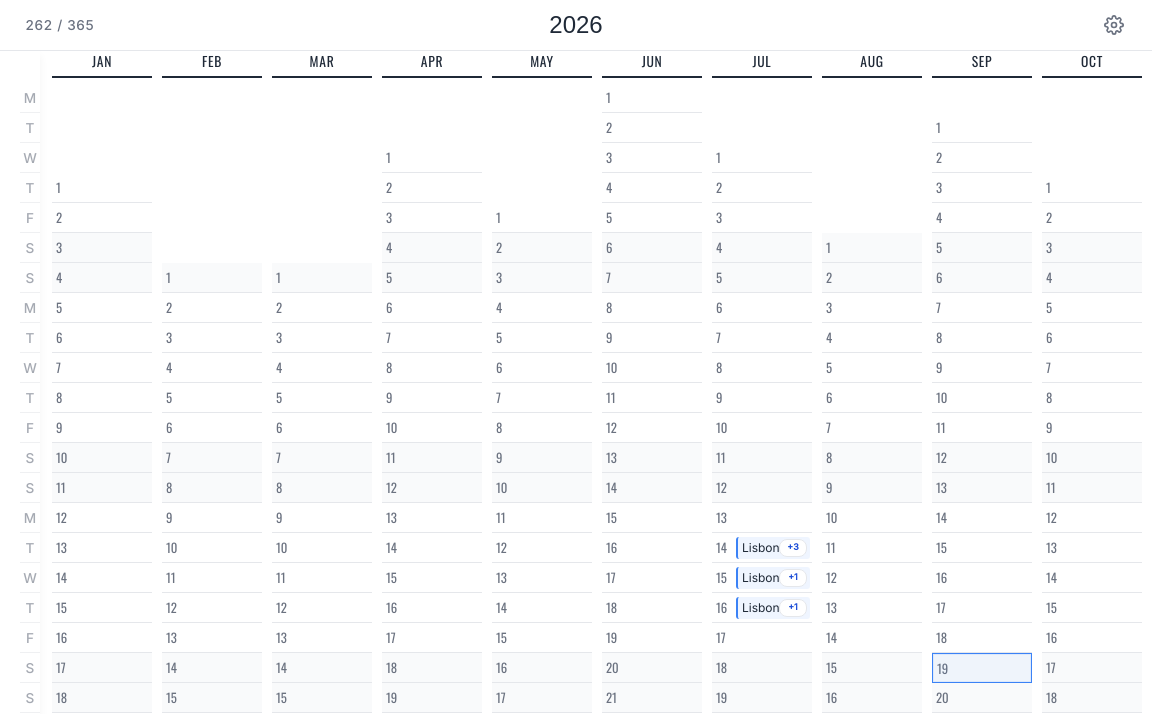
Scenario: Calendy read-only planner › with a calendar already selected › shows one universal overlap count and reveals every event
Expected: the text "🏨 Hotel do Mar" is not shown
Click the button named "4 events on 14 Jul". click: (773, 548)
box: [736,536,810,558]
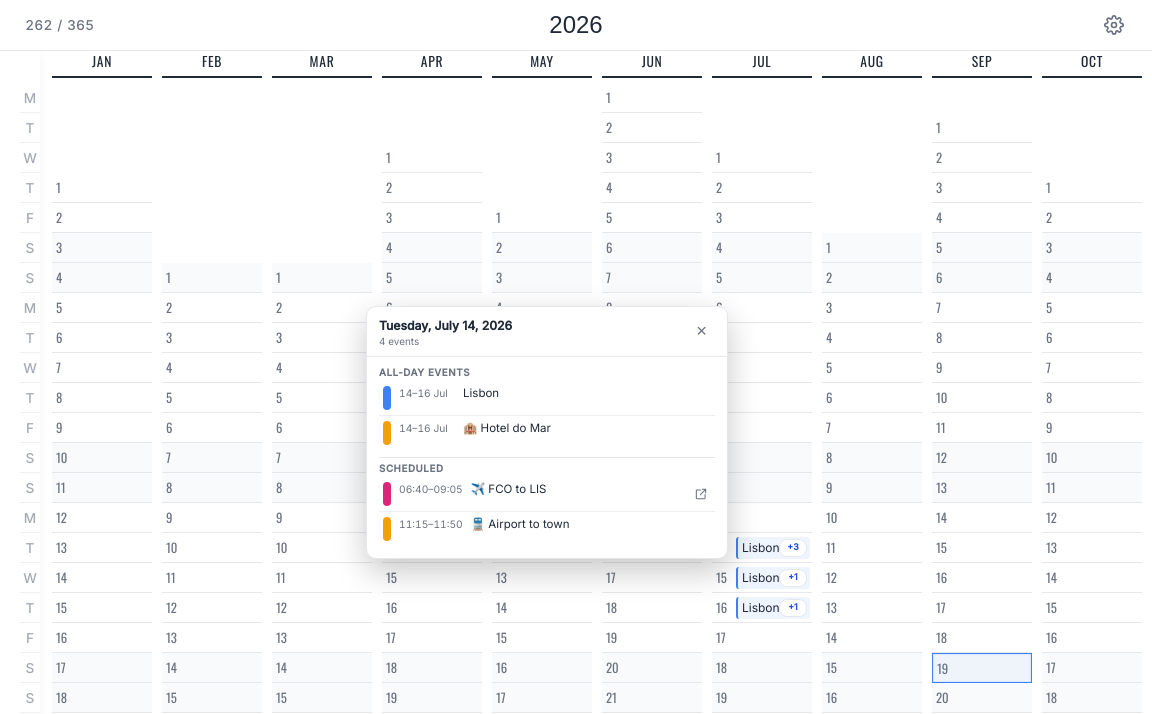
Now the text "🏨 Hotel do Mar" is shown, box [463,421,551,435]
Now the heading "All-day events" is shown, box [379,367,470,378]
Now the text "14–16 Jul" is shown 2 times, box [399,387,455,399]; [399,422,455,434]
